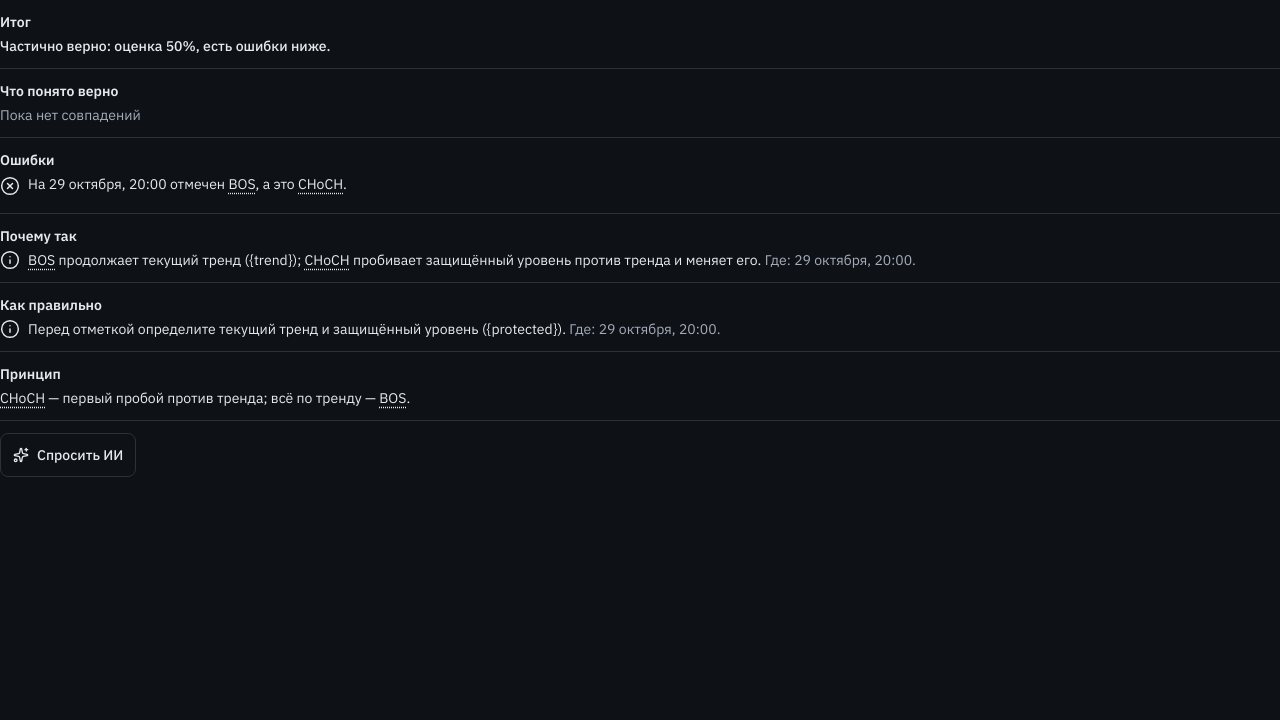
Test case: AskAi › быстрый вопрос: ответ с подписью модели, без дат в запросе
The width and height of the screenshot is (1280, 720).
Click the button with test id "ask-ai-open" at (68, 455), box [0, 433, 136, 477]
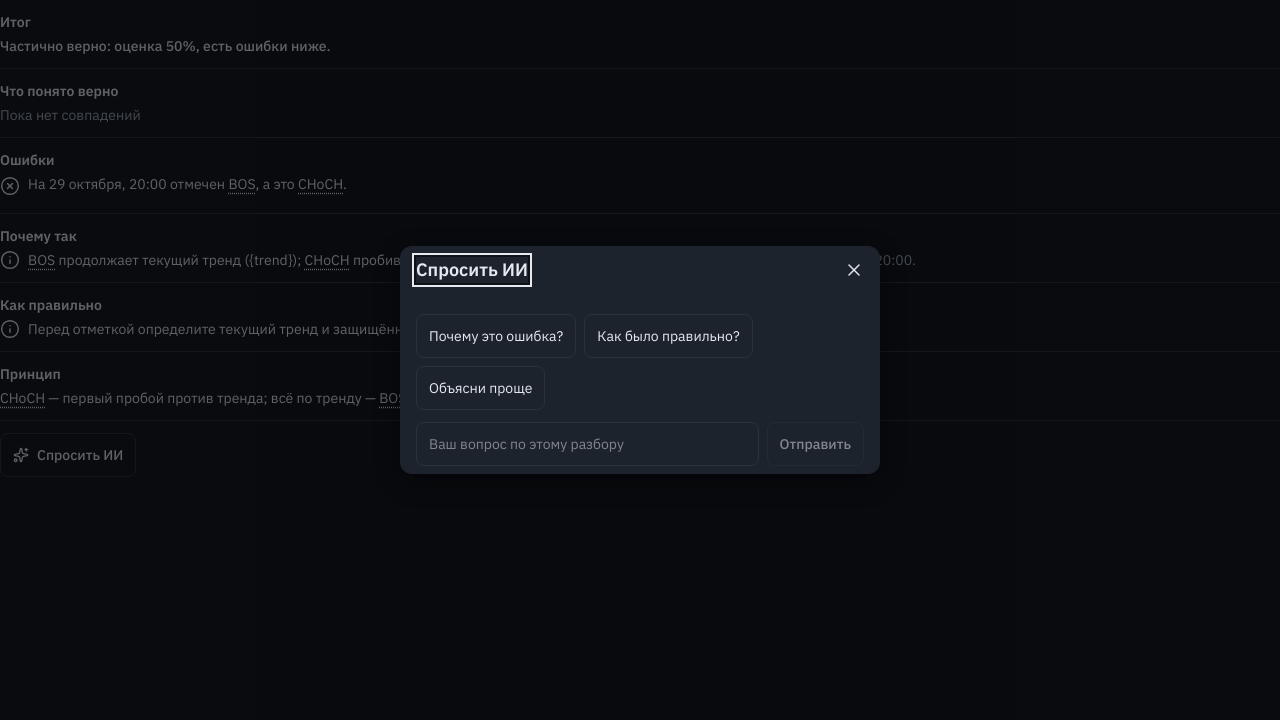
Click the button "Почему это ошибка?" at (496, 336), box [416, 314, 576, 358]
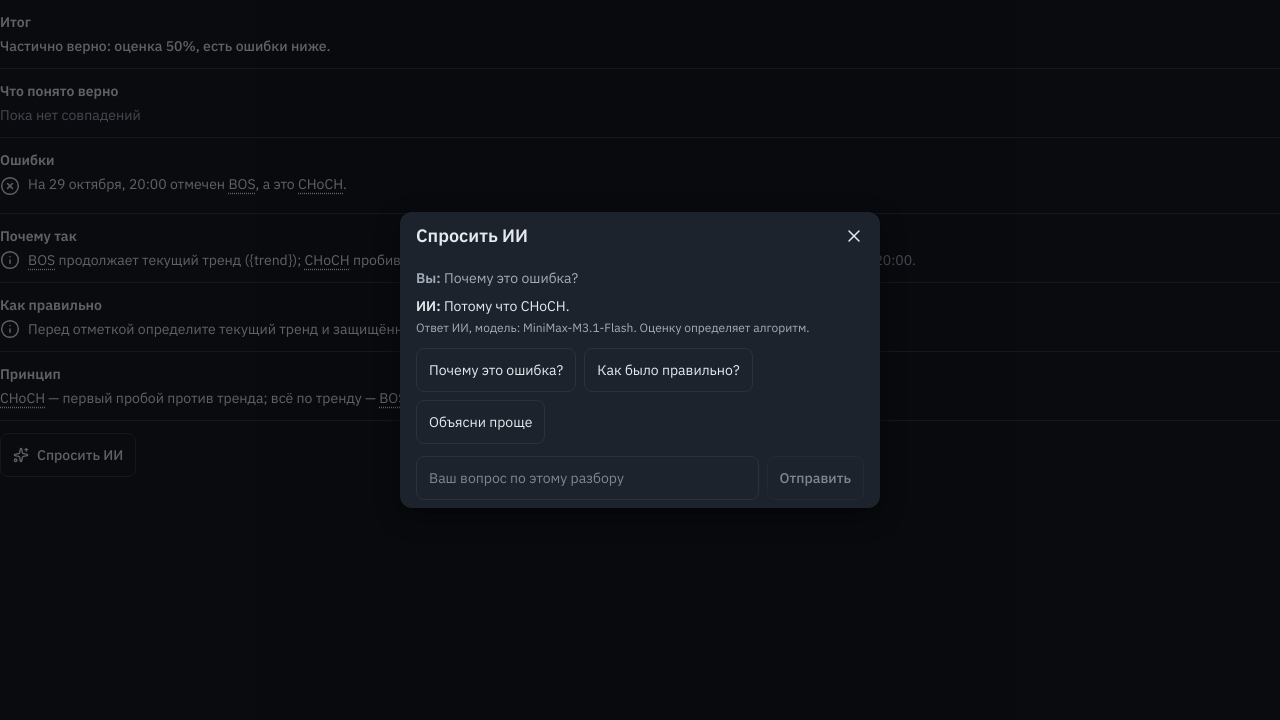
Expected: the text "Потому что CHoCH." is shown, [444, 297, 570, 315]
Expected: the text with test id "ask-ai-signature" reads "Ответ ИИ, модель: MiniMax-M3.1-Flash. Оценку определяет алгоритм.", [416, 320, 810, 335]
Expected: the text "Почему это ошибка?" is shown, [444, 269, 578, 287]
